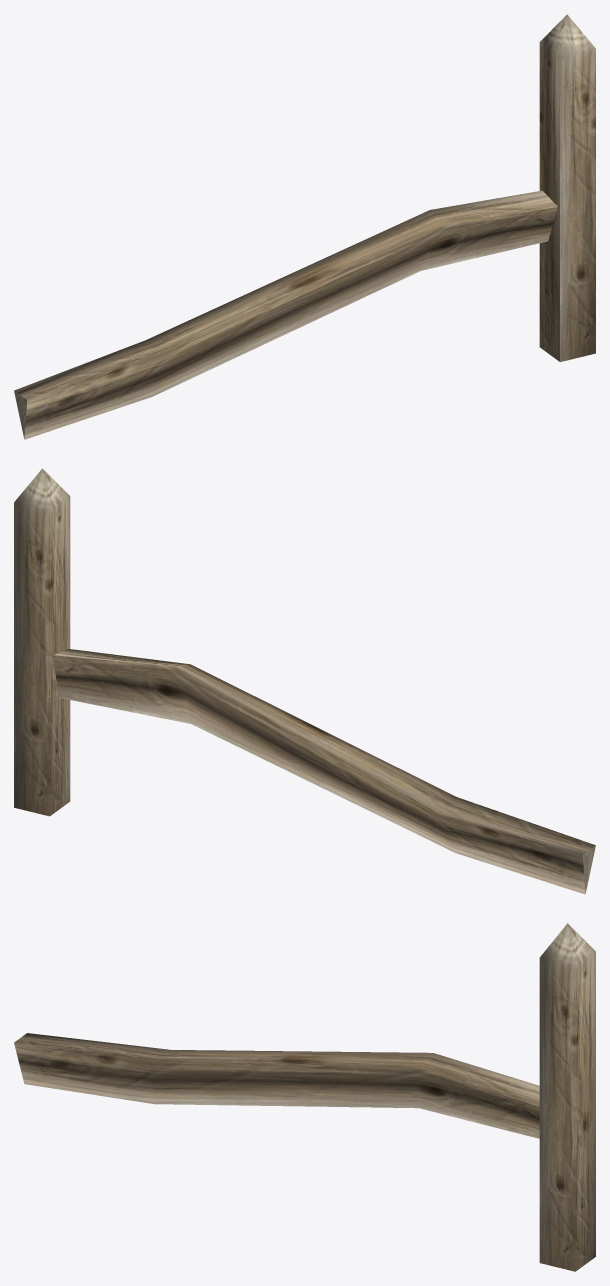
The model's file is duskwoodfencebottombroken.obj.
The picture shows the model from 3 angles, top to bottom: view 1: azimuth 30°, elevation 25°; view 2: azimuth 150°, elevation 25°; view 3: azimuth 330°, elevation 25°; orthographic projection.
Bounding box in the file's own units: 4.33 × 2.46 × 0.3136.
